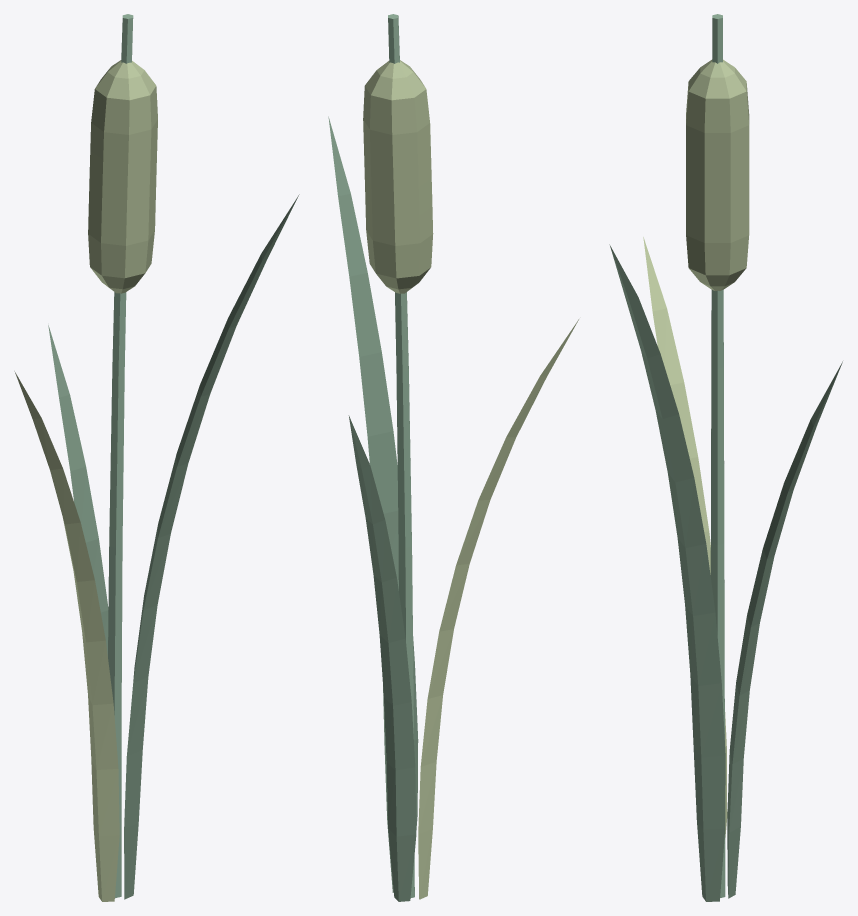
File: cattail-reed-6abbb3.glb
3 renders of one model, left to right at view 1: azimuth 30°, elevation 25°; view 2: azimuth 150°, elevation 25°; view 3: azimuth 270°, elevation 25°, orthographic.
Parts seen in each view (by area): view 1: cattail-reed-mesh; view 2: cattail-reed-mesh; view 3: cattail-reed-mesh.
Boxes of the visible parts, x1=… form: cattail-reed-mesh: x1=14, y1=14, x2=299, y2=901; cattail-reed-mesh: x1=328, y1=14, x2=578, y2=901; cattail-reed-mesh: x1=609, y1=14, x2=842, y2=901.
Size of the model in its own units: 0.3859 by 1.2 by 0.2877.
